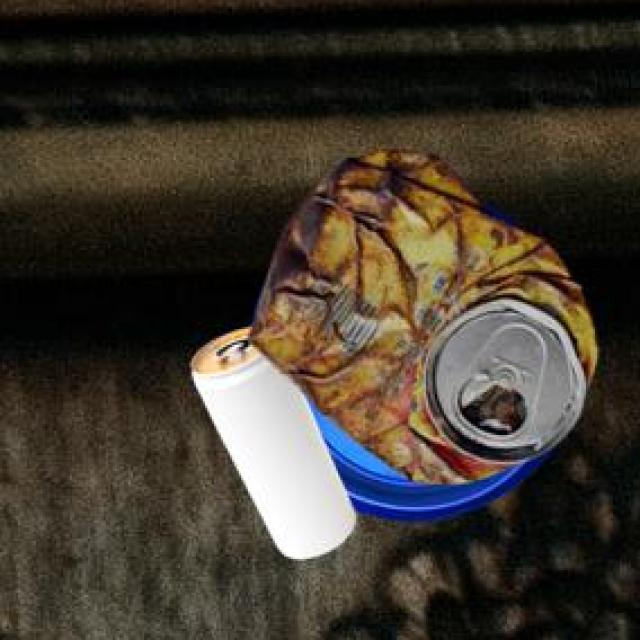logam: (247, 145, 594, 481), (188, 323, 353, 555), (301, 372, 549, 517)
